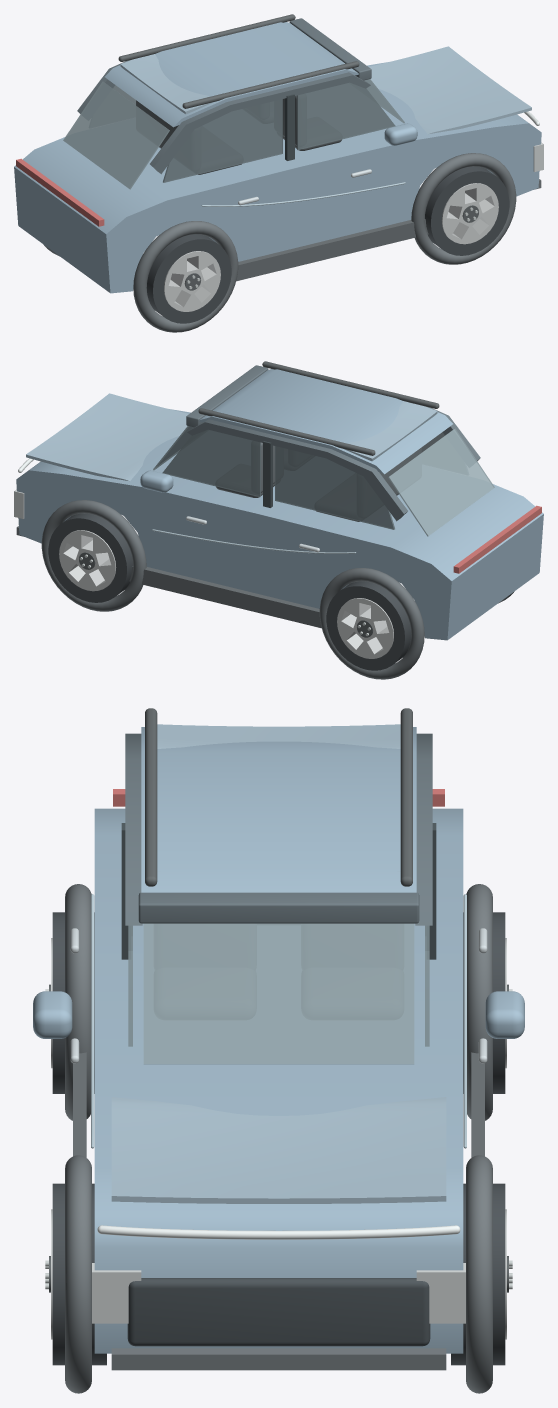
3 views of the same model, one above another, from view 1: azimuth 30°, elevation 25°; view 2: azimuth 150°, elevation 25°; view 3: azimuth 270°, elevation 25° (orthographic). The views are drawn at different scales.
Parts seen in each view (by area): view 1: body, roof, hood_skin, rear_glass, wheel_rear_right, wheel_front_right, window_l_rear, window_l_front, left_sill, arch_rl, arch_fl, roof_side_frame_left (+9 smaller); view 2: body, roof, hood_skin, rear_glass, wheel_rear_left, wheel_front_left, window_r_rear, window_r_front, right_sill, arch_rr, arch_fr, roof_side_frame_right (+9 smaller); view 3: body, windshield, roof, hood_skin, front_grille, windshield_header, front_lower, arch_fl, arch_fr, roof_skin, arch_rl, arch_rr (+17 smaller).
Part boxes in pixels (x1,y1,x2,y2): body: [14, 62, 541, 293]; roof: [105, 22, 358, 127]; hood_skin: [369, 46, 531, 134]; rear_glass: [63, 81, 169, 189]; wheel_rear_right: [146, 234, 231, 323]; wheel_front_right: [425, 166, 509, 255]; window_l_rear: [163, 99, 282, 182]; window_l_front: [297, 82, 395, 149]; left_sill: [236, 219, 428, 281]; arch_rl: [133, 221, 238, 332]; arch_fl: [411, 153, 516, 264]; roof_side_frame_left: [150, 72, 370, 174]; body: [16, 409, 543, 640]; roof: [199, 369, 452, 474]; hood_skin: [26, 393, 188, 481]; rear_glass: [388, 428, 494, 536]; wheel_rear_left: [326, 581, 411, 670]; wheel_front_left: [48, 513, 132, 602]; window_r_rear: [275, 446, 394, 529]; window_r_front: [162, 429, 260, 496]; right_sill: [129, 566, 321, 628]; arch_rr: [319, 568, 424, 679]; arch_fr: [41, 500, 146, 611]; roof_side_frame_right: [187, 419, 407, 521]; body: [94, 808, 463, 1353]; windshield: [143, 923, 414, 1064]; roof: [141, 727, 416, 892]; hood_skin: [111, 1097, 446, 1203]; front_grille: [127, 1278, 430, 1346]; windshield_header: [138, 892, 419, 923]; front_lower: [111, 1348, 446, 1370]; arch_fl: [65, 1155, 91, 1393]; arch_fr: [466, 1155, 492, 1393]; roof_skin: [157, 724, 400, 871]; arch_rl: [65, 884, 91, 1120]; arch_rr: [466, 884, 492, 1120].
Size of the model in its own units: 4.35 by 1.97 by 2.09.
